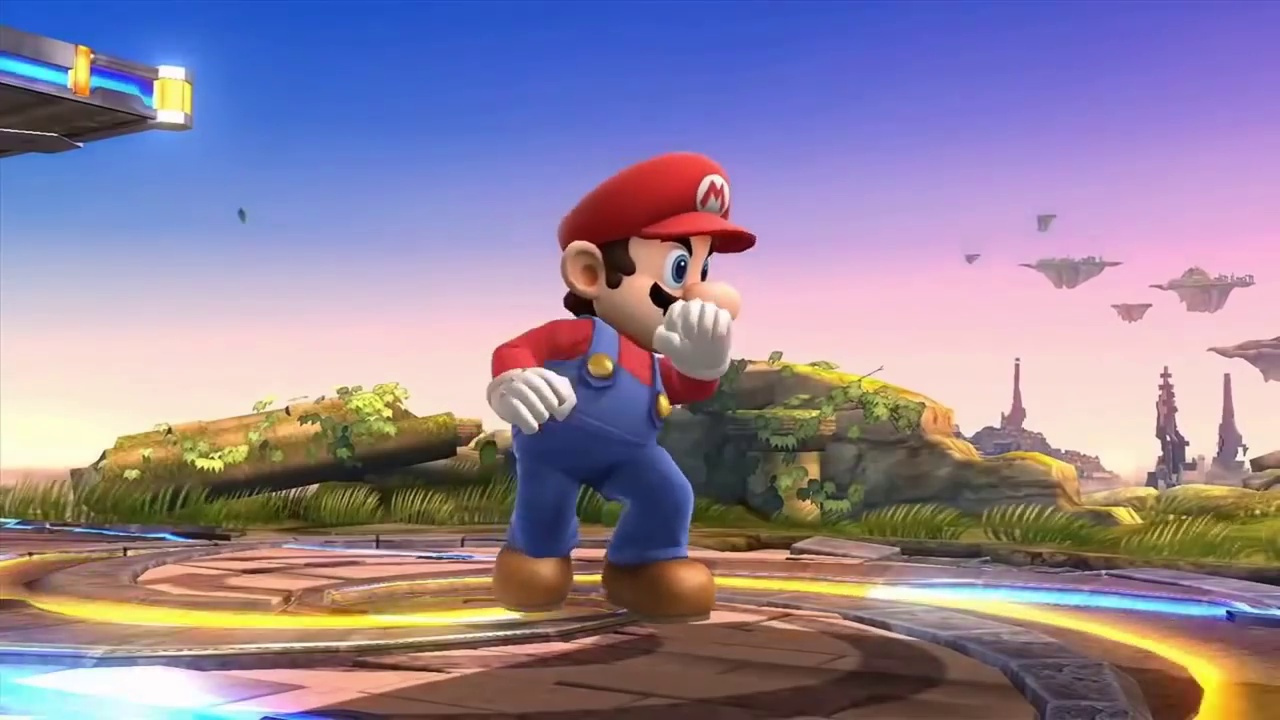Mario: (486, 149, 758, 624)
